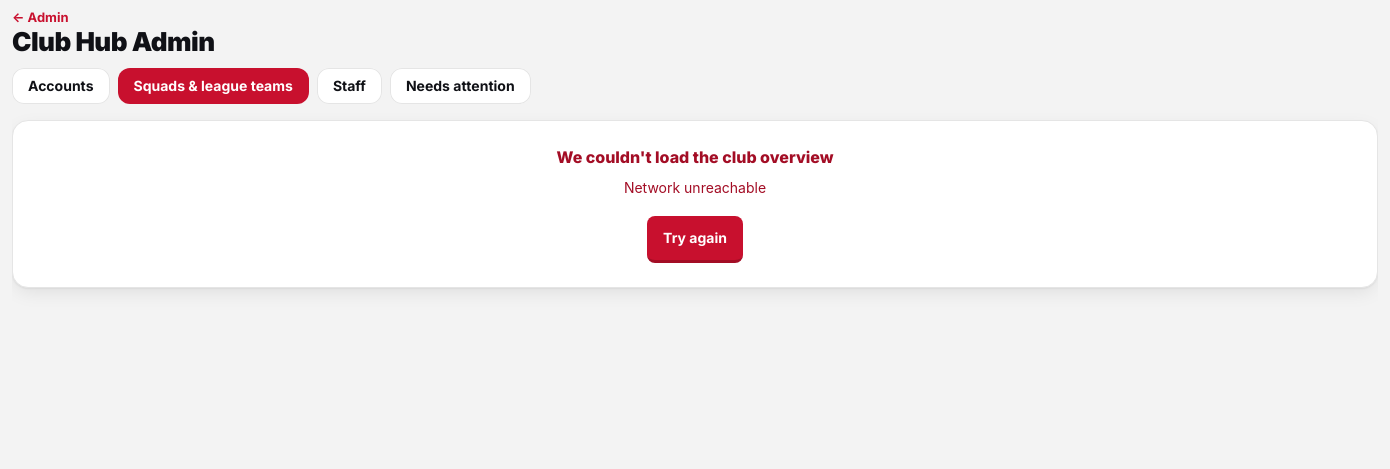
Test case: AdminClub — the Club tab › renders a failed query in an alert region, with a working retry
expect the message shows "Network unreachable": met, box [624, 179, 766, 196]
Click the button "Try again": x=695, y=239 [647, 216, 743, 263]
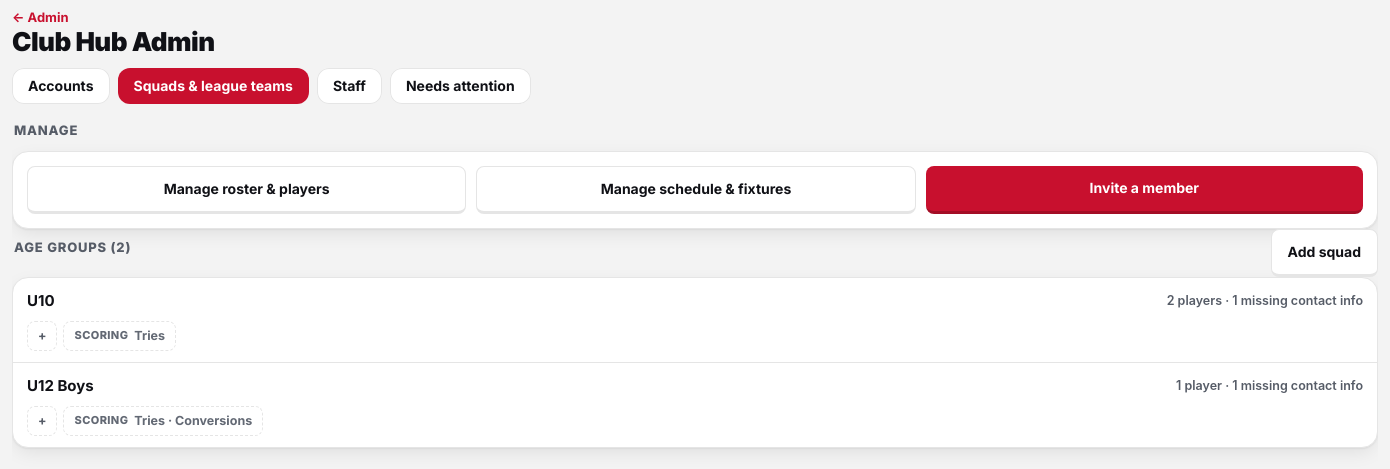
expect the element with test id "team-row-team-u10" is shown: met, box [13, 278, 1377, 363]
